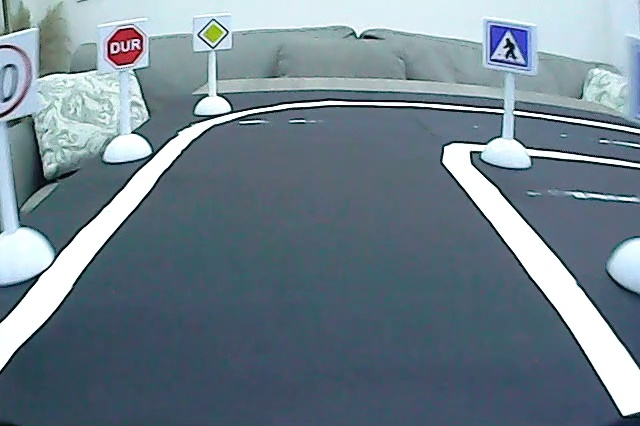pedestrian crossing: (487, 20, 533, 72)
stop sign: (104, 24, 147, 70)
